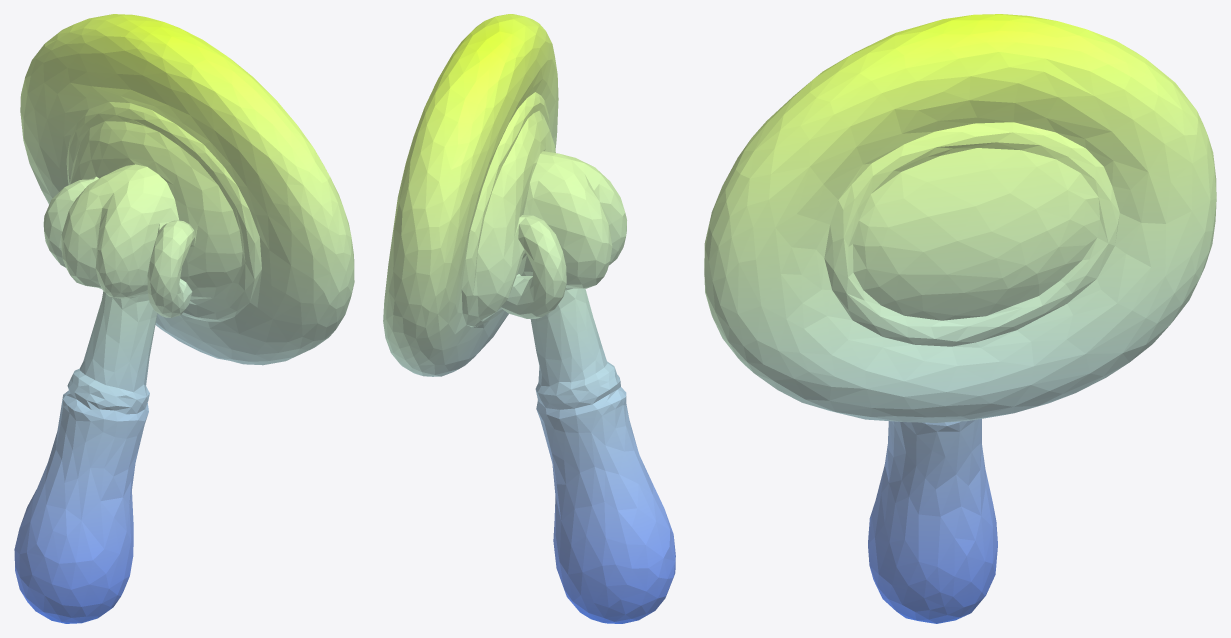
The model's file is 183_cyb_laser_gradient_fish_scales_2866_2026_10_03_56522a.glb.
The picture shows the model from 3 angles, left to right: view 1: azimuth 30°, elevation 25°; view 2: azimuth 150°, elevation 25°; view 3: azimuth 270°, elevation 25°; orthographic projection. The views are drawn at different scales.
Parts seen in each view (by area): view 1: geometry_0; view 2: geometry_0; view 3: geometry_0.
Part boxes in pixels (<box>): geometry_0: <box>14,14,354,623</box>; geometry_0: <box>383,14,675,623</box>; geometry_0: <box>704,14,1216,623</box>.
Size of the model in its own units: 0.4542 by 0.9678 by 0.6821.
